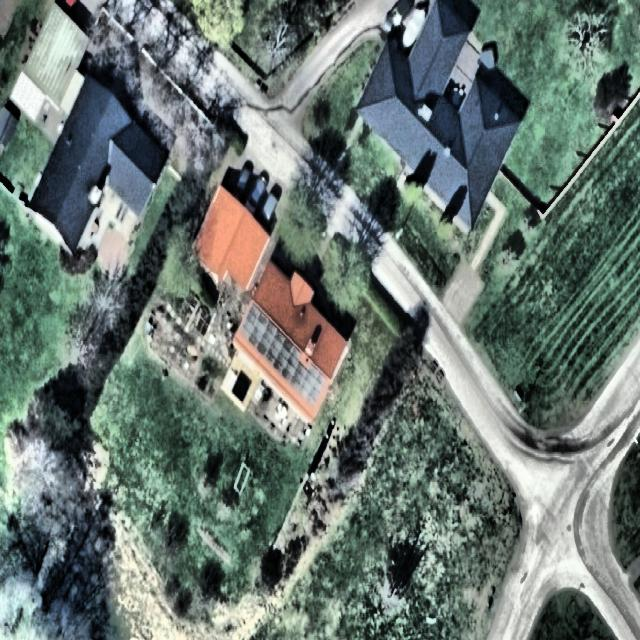roof_pv: (239, 306, 295, 366), (274, 354, 326, 416)
